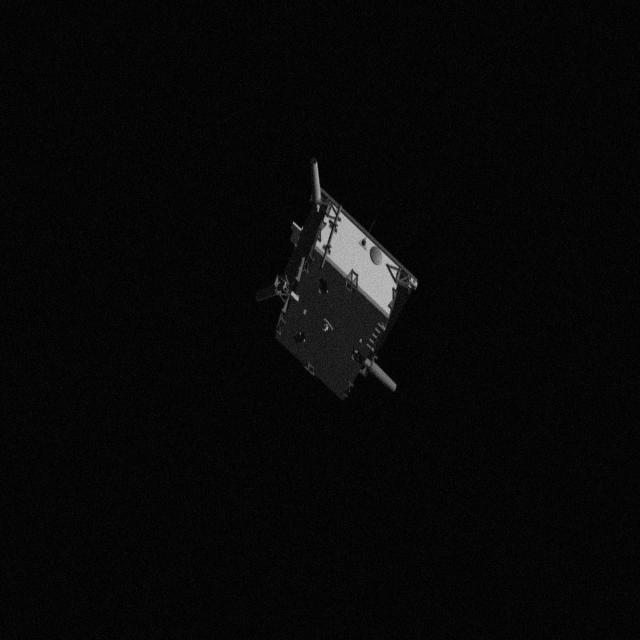satellite: (272, 152, 416, 414)
